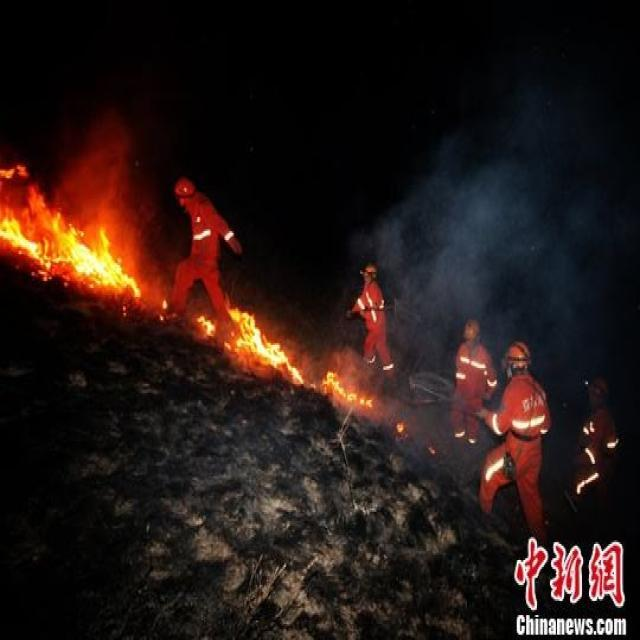Fire: (2, 162, 144, 297), (224, 306, 305, 386), (322, 370, 374, 410), (197, 313, 216, 336)
Smoke: (338, 80, 591, 482), (53, 113, 171, 310)
